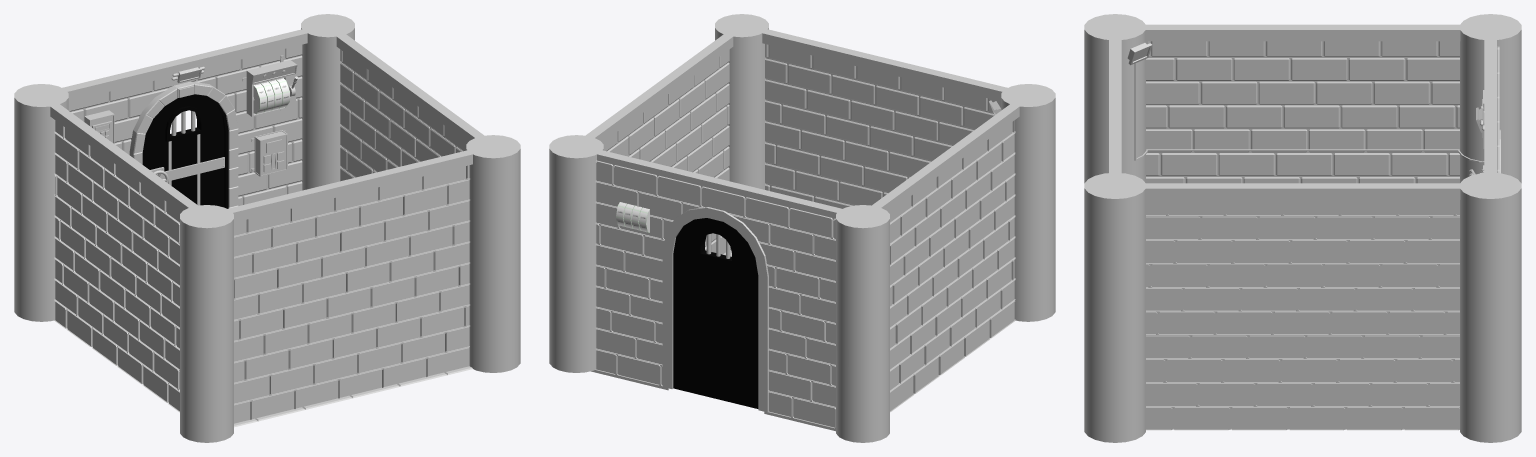
Rendered from Room-base_v1-pivotfix.FBX.
3 renders of one model, left to right at view 1: azimuth 30°, elevation 25°; view 2: azimuth 150°, elevation 25°; view 3: azimuth 270°, elevation 25°, orthographic. The views are drawn at different scales.
Visible parts, largest first — view 1: Plane005, Plane003, Cylinder003, Cylinder004, Cylinder002, Wall4, Wall1, Cylinder015, Wall2, Cylinder001, Wall3, Box022 (+8 smaller); view 2: Plane002, Wall2, Plane003, Cylinder015, Cylinder002, Cylinder001, Cylinder003, Wall1, Cylinder004, Wall3, Wall4, Box007 (+6 smaller); view 3: Plane004, Wall3, Cylinder004, Cylinder001, Cylinder003, Cylinder002, Wall1, Box023, Box024, Plane003, Box002, Box022 (+1 smaller).
Part boxes in pixels (x1=…): Plane005: x1=234, y1=165, x2=469, y2=423; Plane003: x1=55, y1=120, x2=181, y2=411; Cylinder003: x1=180, y1=205, x2=233, y2=442; Cylinder004: x1=466, y1=135, x2=520, y2=372; Cylinder002: x1=14, y1=84, x2=68, y2=321; Wall4: x1=68, y1=44, x2=302, y2=205; Wall1: x1=340, y1=49, x2=467, y2=181; Cylinder015: x1=142, y1=94, x2=228, y2=208; Wall2: x1=234, y1=165, x2=469, y2=419; Cylinder001: x1=301, y1=14, x2=354, y2=190; Wall3: x1=54, y1=126, x2=179, y2=412; Box022: x1=224, y1=149, x2=472, y2=222; Plane002: x1=591, y1=163, x2=835, y2=431; Wall2: x1=765, y1=44, x2=1001, y2=208; Plane003: x1=888, y1=120, x2=1014, y2=411; Cylinder015: x1=673, y1=218, x2=758, y2=408; Cylinder002: x1=836, y1=205, x2=889, y2=442; Cylinder001: x1=549, y1=135, x2=603, y2=372; Cylinder003: x1=1001, y1=84, x2=1055, y2=321; Wall1: x1=602, y1=49, x2=729, y2=254; Cylinder004: x1=715, y1=14, x2=768, y2=249; Wall3: x1=890, y1=121, x2=1015, y2=412; Wall4: x1=595, y1=160, x2=835, y2=428; Box007: x1=662, y1=207, x2=768, y2=412; Plane004: x1=1146, y1=200, x2=1459, y2=429; Wall3: x1=1146, y1=41, x2=1459, y2=183; Cylinder004: x1=1084, y1=172, x2=1145, y2=442; Cylinder001: x1=1460, y1=173, x2=1521, y2=442; Cylinder003: x1=1084, y1=14, x2=1145, y2=183; Cylinder002: x1=1460, y1=14, x2=1521, y2=183; Wall1: x1=1146, y1=214, x2=1459, y2=430; Box023: x1=1140, y1=24, x2=1460, y2=41; Box024: x1=1140, y1=183, x2=1465, y2=199; Plane003: x1=1146, y1=41, x2=1459, y2=183; Box002: x1=1484, y1=40, x2=1496, y2=175; Box022: x1=1109, y1=37, x2=1121, y2=172.
Size of the model in its own units: 350 by 218 by 349.
Materials: 1 (1 with a texture image).
